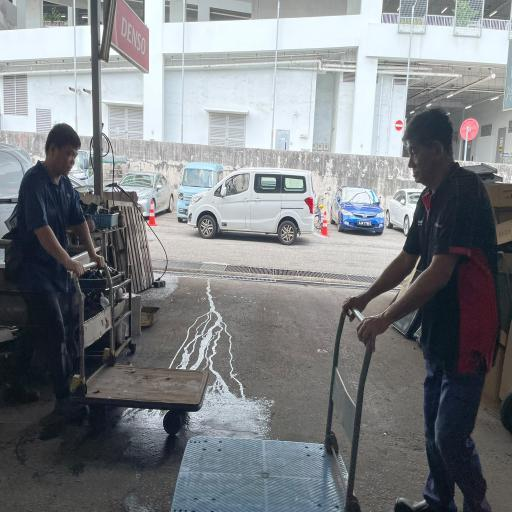person_left: (172, 109, 500, 512), (343, 109, 500, 512)
person_right: (4, 105, 215, 454)
